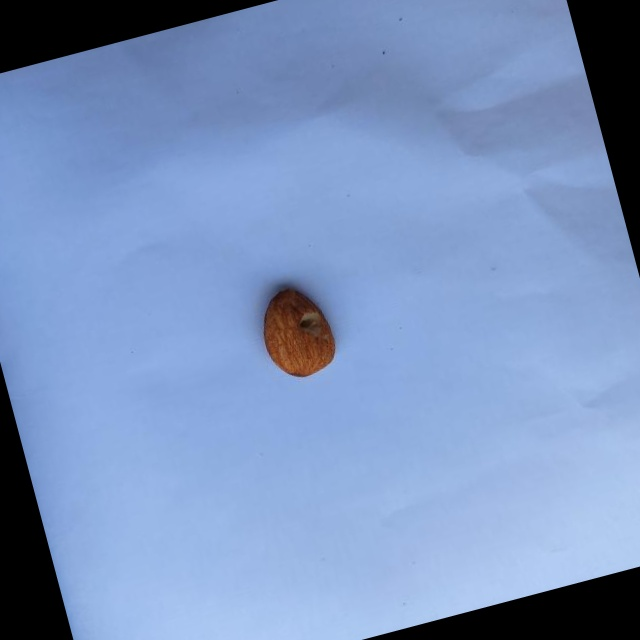grade3: (250, 275, 348, 389)
